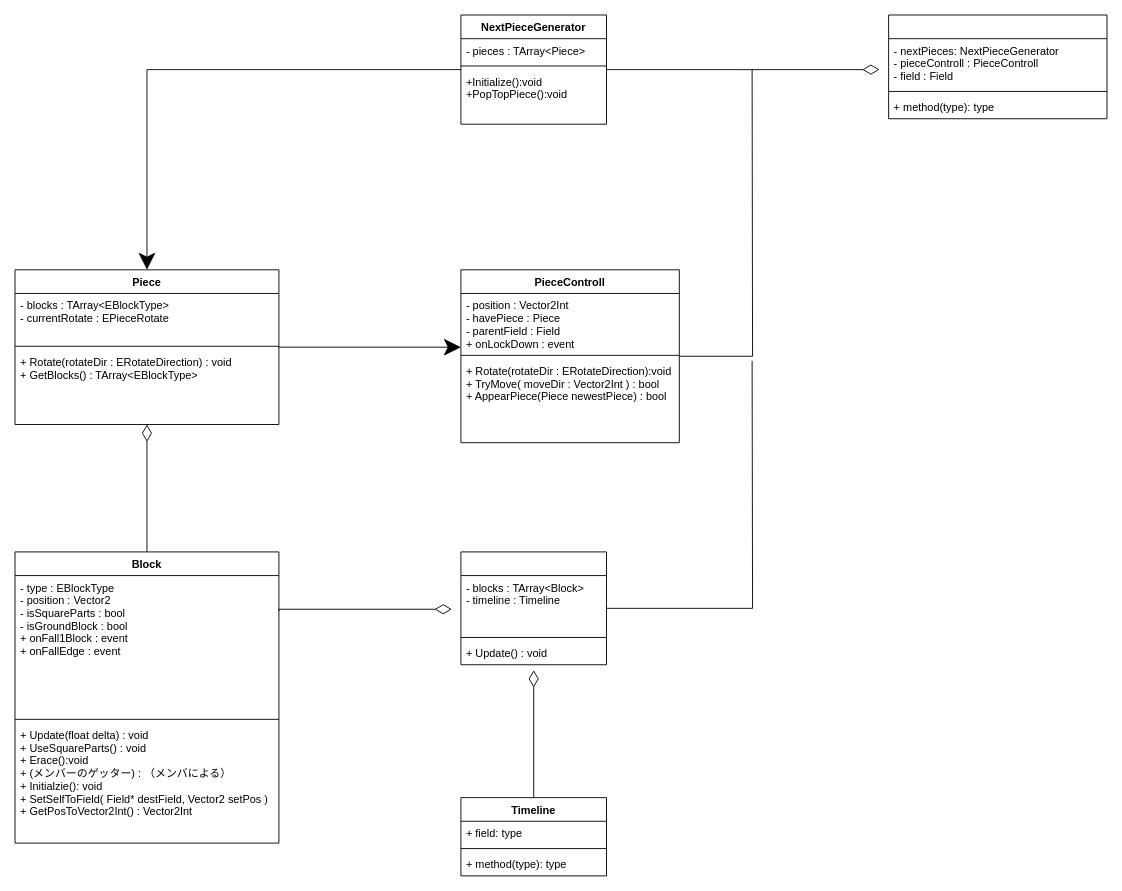
Some shapes in this 1122 by 891 pixel diagram are drawn without their labels. Each missing label, with the box of its shape:
Field: (460, 551, 607, 665)
IngameProcess: (888, 14, 1107, 119)
